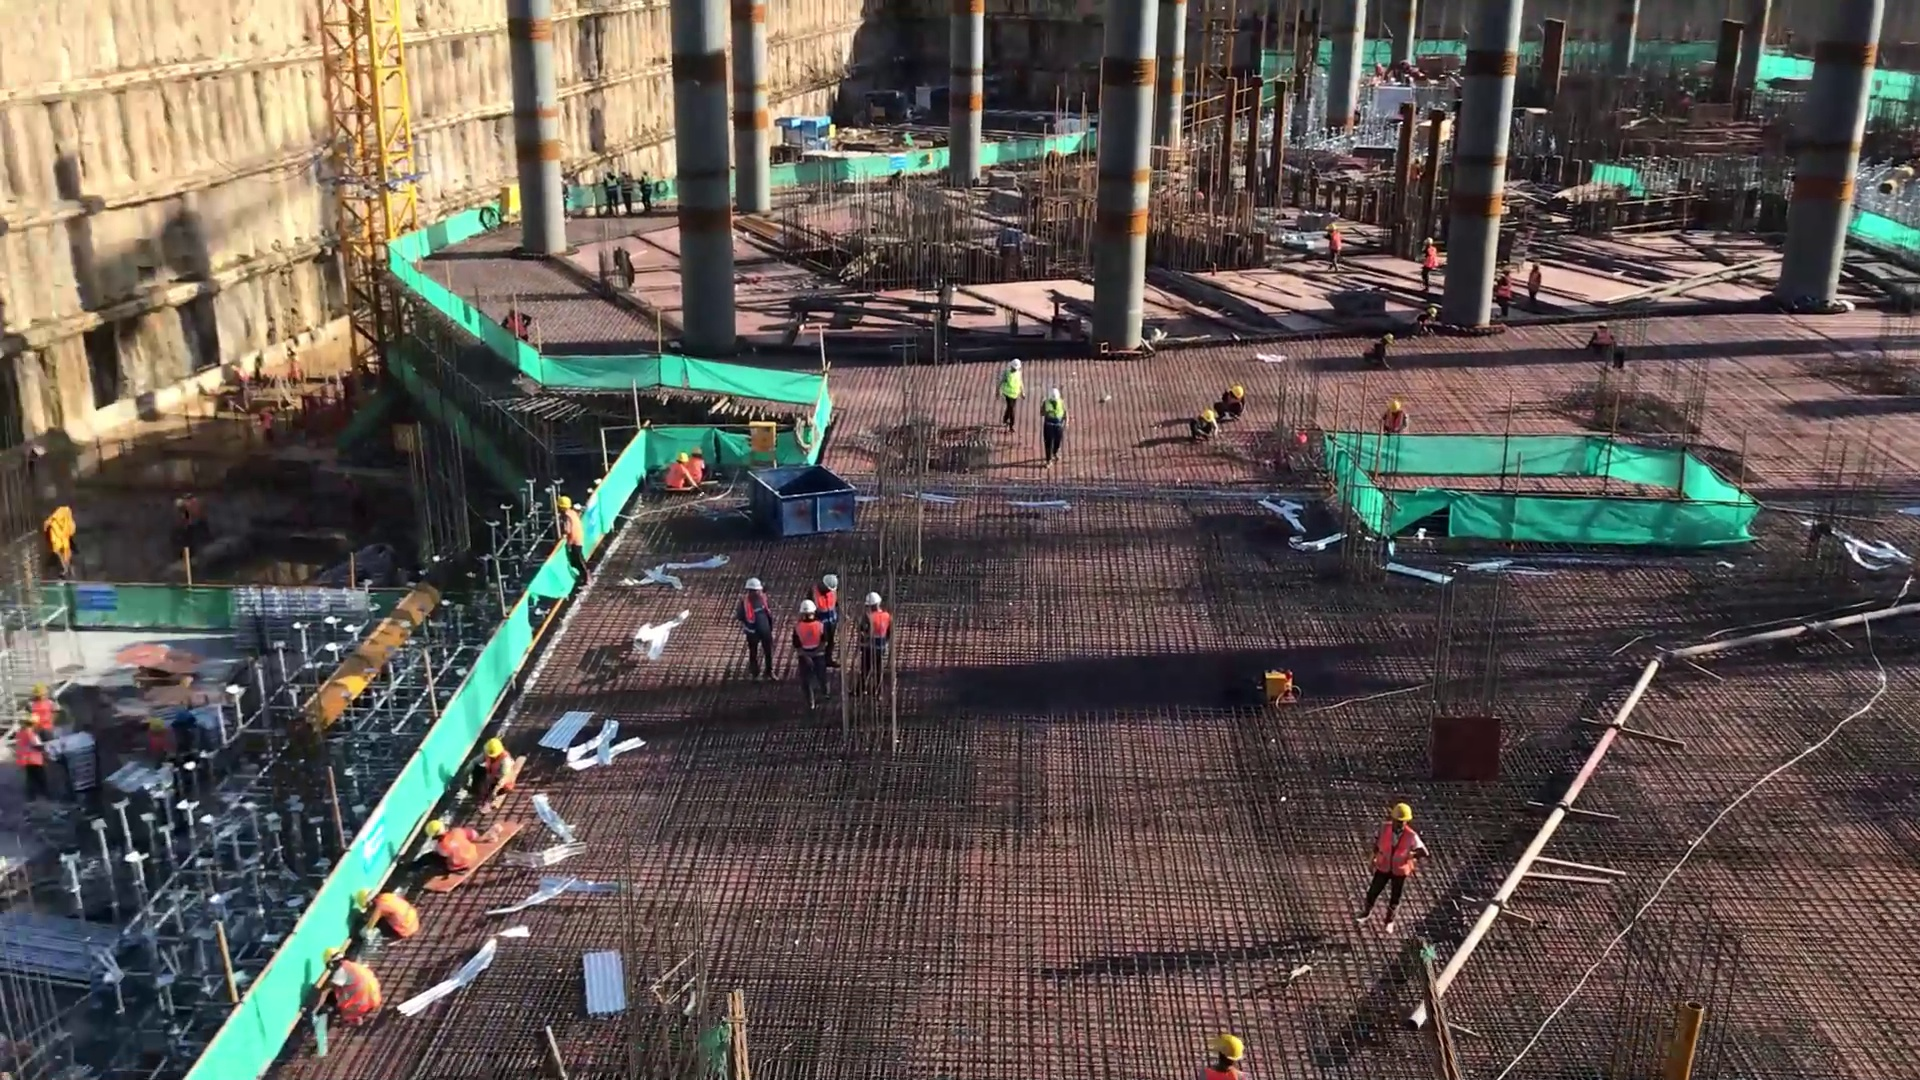helmet: (1214, 1032, 1247, 1063), (1386, 800, 1415, 825), (477, 736, 508, 760), (354, 885, 377, 914), (423, 816, 450, 841), (320, 947, 345, 971), (860, 588, 886, 609), (14, 710, 39, 730), (27, 683, 52, 703), (797, 596, 818, 618), (742, 575, 767, 594), (1227, 383, 1246, 403), (1044, 385, 1065, 404), (820, 571, 838, 594), (1198, 407, 1215, 427), (555, 494, 573, 511), (1008, 355, 1024, 373), (1385, 398, 1405, 414), (1592, 319, 1611, 331), (1324, 219, 1340, 232), (675, 451, 689, 466), (1383, 331, 1395, 347), (1528, 257, 1542, 270), (1502, 262, 1515, 275), (1427, 306, 1439, 320), (1423, 235, 1436, 247), (691, 444, 703, 457)
person: (1354, 797, 1432, 939), (314, 940, 389, 1034), (728, 573, 787, 688), (785, 597, 837, 718), (851, 586, 899, 704), (346, 880, 425, 950), (421, 814, 487, 884), (553, 494, 598, 593), (14, 708, 54, 806), (469, 737, 522, 810), (1034, 382, 1074, 472), (991, 352, 1033, 435), (1189, 1028, 1256, 1080), (801, 569, 842, 641), (25, 684, 62, 746), (1580, 317, 1626, 365), (1318, 216, 1348, 278), (1416, 235, 1442, 302), (1181, 405, 1225, 445), (1358, 328, 1398, 372), (1213, 379, 1251, 423), (1493, 261, 1518, 326), (1378, 396, 1412, 440), (1523, 257, 1548, 316), (663, 449, 694, 494), (1405, 304, 1440, 341), (687, 443, 708, 492)
vest: (330, 961, 384, 1026), (1370, 823, 1417, 883), (374, 889, 421, 945), (736, 588, 776, 643), (789, 621, 828, 672), (437, 827, 480, 873), (479, 750, 517, 798), (859, 610, 891, 663), (813, 590, 841, 635), (14, 730, 46, 768), (999, 369, 1027, 404), (1040, 401, 1068, 435), (30, 700, 55, 735), (562, 510, 584, 549), (1199, 1064, 1245, 1080), (664, 465, 689, 491), (1493, 275, 1513, 302), (685, 457, 702, 487), (1591, 328, 1615, 348), (1526, 269, 1543, 296), (1420, 246, 1438, 272), (1326, 232, 1342, 258), (1384, 414, 1405, 433)
